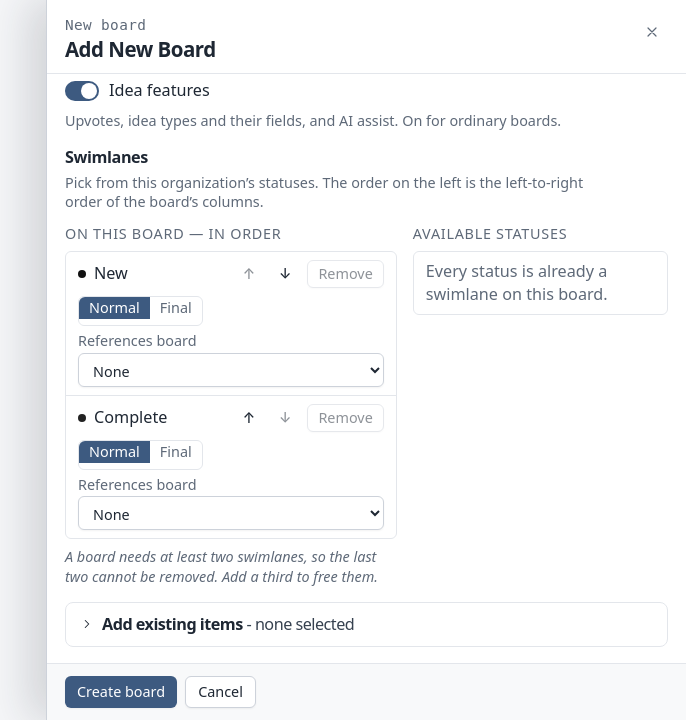
Test: the board drawer pull step by role › gives an Org Admin creating a board all three tabs
This screenshot has width=686, height=720.
(page scrolled)
Click the button "Add existing items - none selected" at x=172, y=624, box [66,603,667,646]
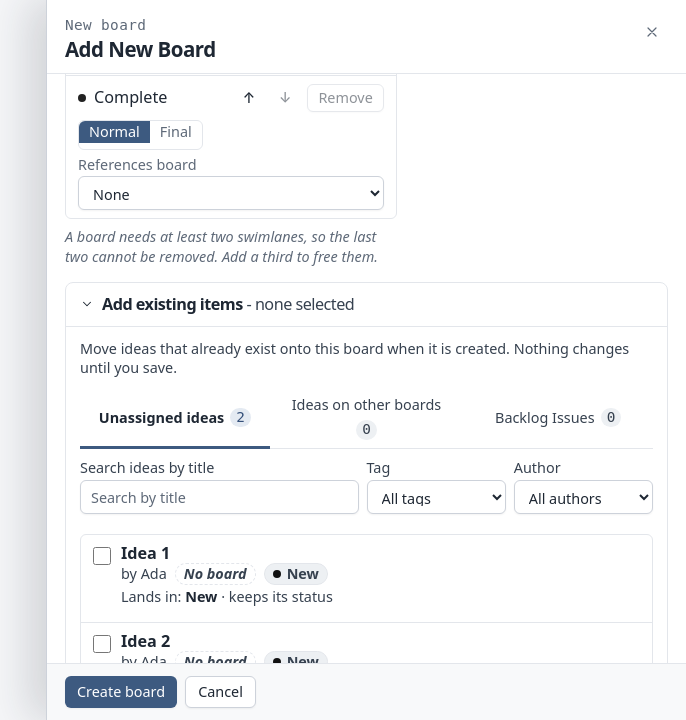
Expected: the tab "Backlog Issues 0" is shown, [463,389,653,449]
